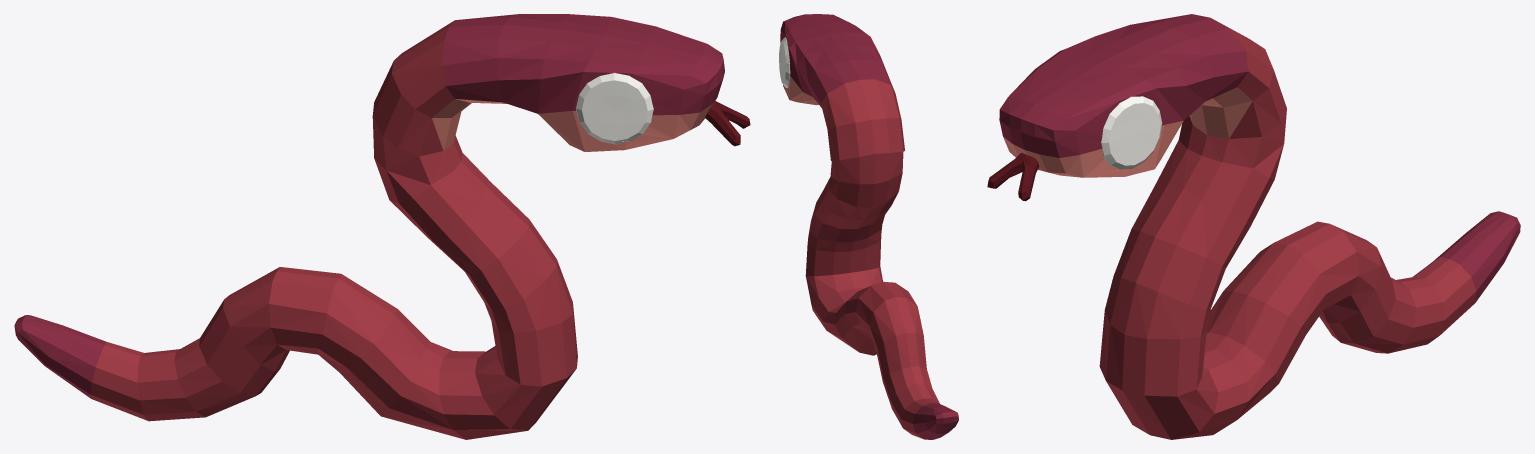
The model's file is swsnake.glb.
3 renders of one model, left to right at view 1: azimuth 30°, elevation 25°; view 2: azimuth 150°, elevation 25°; view 3: azimuth 270°, elevation 25°, orthographic. The views are drawn at different scales.
Visible parts, largest first — view 1: Mesh_9; view 2: Mesh_9; view 3: Mesh_9.
Boxes of the visible parts, bbox=[...] form: Mesh_9: bbox=[14, 14, 750, 439]; Mesh_9: bbox=[779, 14, 958, 439]; Mesh_9: bbox=[987, 14, 1520, 439].
Bounding box in the file's own units: 0.9556 × 0.7801 × 0.8791.
Materials: 1 (1 with a texture image).
